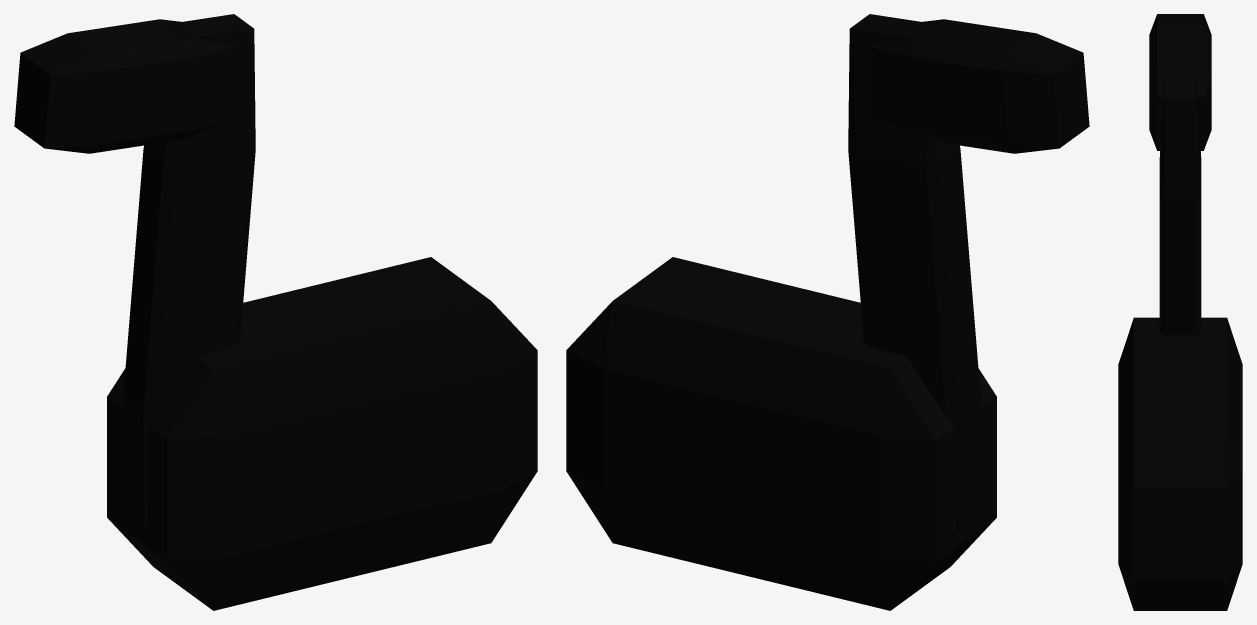
File: P6_GameDesign_Note1 1.fbx
3 views of the same model, side by side, from view 1: azimuth 30°, elevation 25°; view 2: azimuth 150°, elevation 25°; view 3: azimuth 270°, elevation 25° (orthographic). The views are drawn at different scales.
Visible parts, largest first — view 1: beveled_cuboid_1, beveled_cuboid; view 2: beveled_cuboid_1, beveled_cuboid; view 3: beveled_cuboid_1, beveled_cuboid.
Boxes of the visible parts, x1,y1,x2,y2 form: beveled_cuboid_1: (107,257,537,610); beveled_cuboid: (14,14,255,531); beveled_cuboid_1: (566,257,996,610); beveled_cuboid: (848,14,1089,531); beveled_cuboid_1: (1118,317,1242,610); beveled_cuboid: (1149,14,1211,335).
Bounding box in the file's own units: 129 × 147 × 37.5.
1 material, 1 textured.
